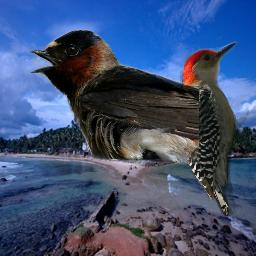Swallow: (27, 29, 199, 164)
Woodpecker: (171, 41, 249, 216)
